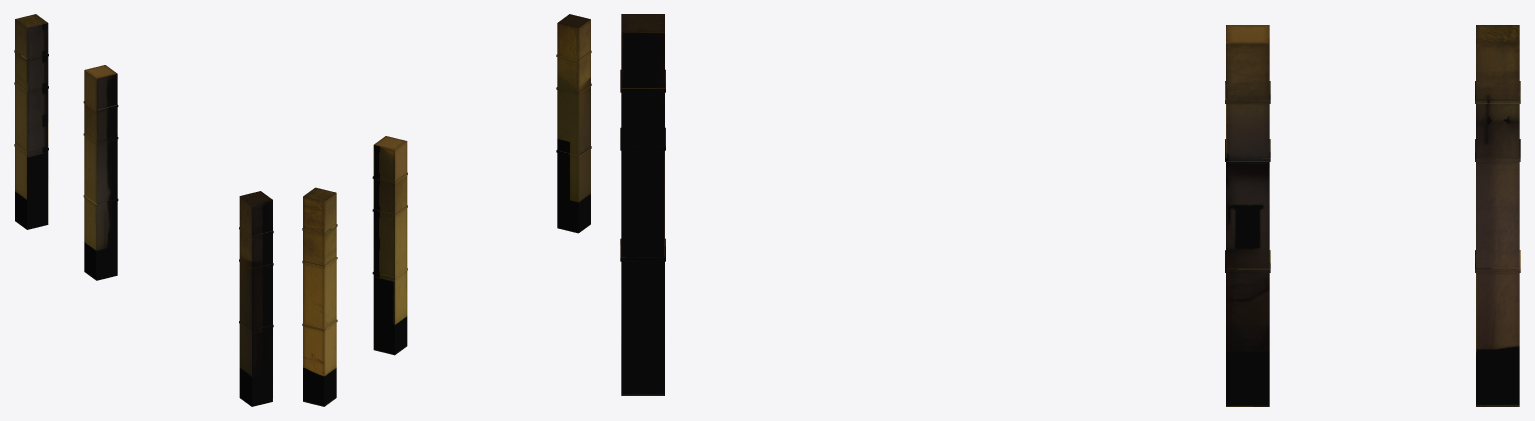
The picture shows the model from 3 angles, left to right: view 1: azimuth 30°, elevation 25°; view 2: azimuth 150°, elevation 25°; view 3: azimuth 270°, elevation 25°; orthographic projection. The views are drawn at different scales.
Visible parts, largest first — view 1: p2; view 2: p2; view 3: p2.
Boxes of the visible parts, <box> form: p2: <box>14,14,273,406</box>; p2: <box>302,14,591,406</box>; p2: <box>620,14,1520,406</box>.
Size of the model in its own units: 3.3 by 18.35 by 41.21.
Materials: 1 (1 with a texture image).
